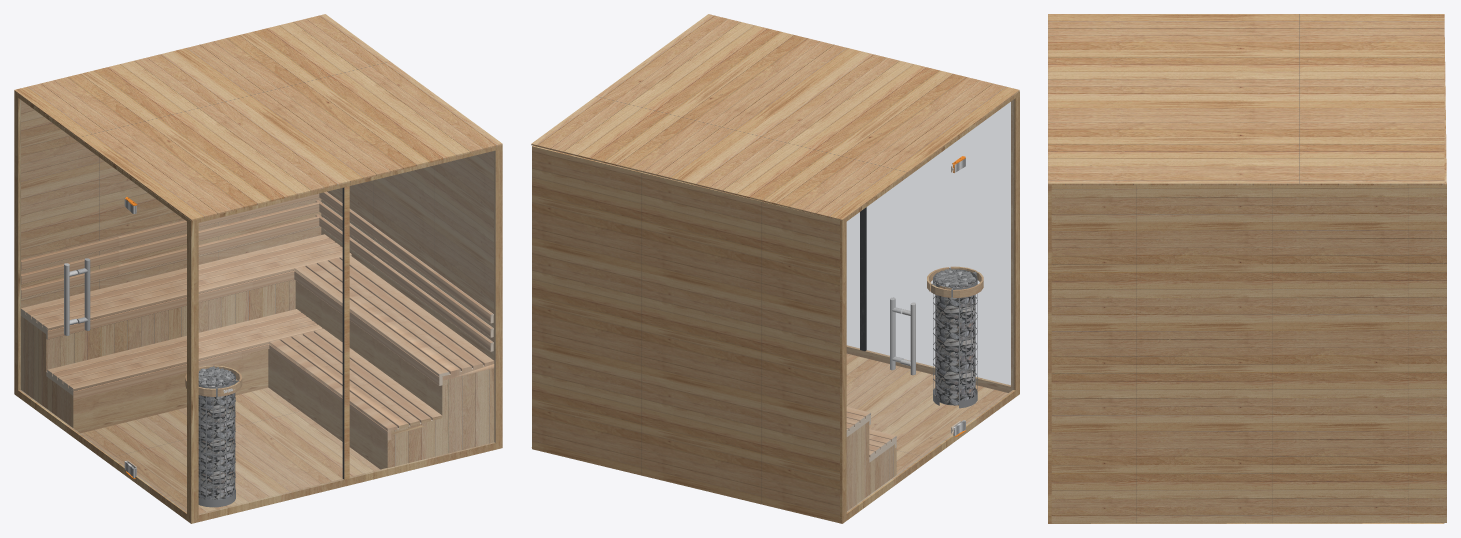
File: modelo.glb
The picture shows the model from 3 angles, left to right: view 1: azimuth 30°, elevation 25°; view 2: azimuth 150°, elevation 25°; view 3: azimuth 270°, elevation 25°; orthographic projection. The views are drawn at different scales.
Visible parts, largest first — view 1: Geom3D (×23), Geom3D_, Geom3D_p#1; view 2: Geom3D (×12), Geom3D_; view 3: Geom3D (×3).
Part boxes in pixels (<box>): Geom3D (×23): <box>14,14,502,523</box>; Geom3D_: <box>21,279,494,467</box>; Geom3D_p#1: <box>344,186,349,479</box>; Geom3D (×12): <box>531,14,1019,523</box>; Geom3D_: <box>846,421,896,511</box>; Geom3D (×3): <box>1048,14,1446,523</box>.
Bounding box in the file's own units: 2.48 × 2.24 × 2.38.
Materials: 24 (18 with a texture image).
